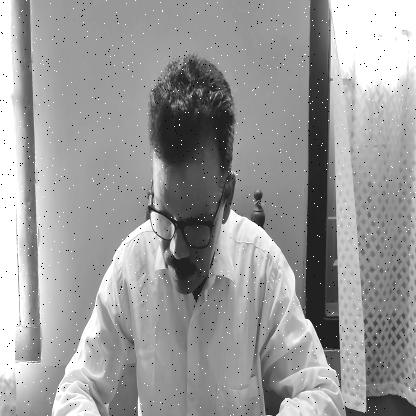Distracted: (151, 74, 233, 292)
